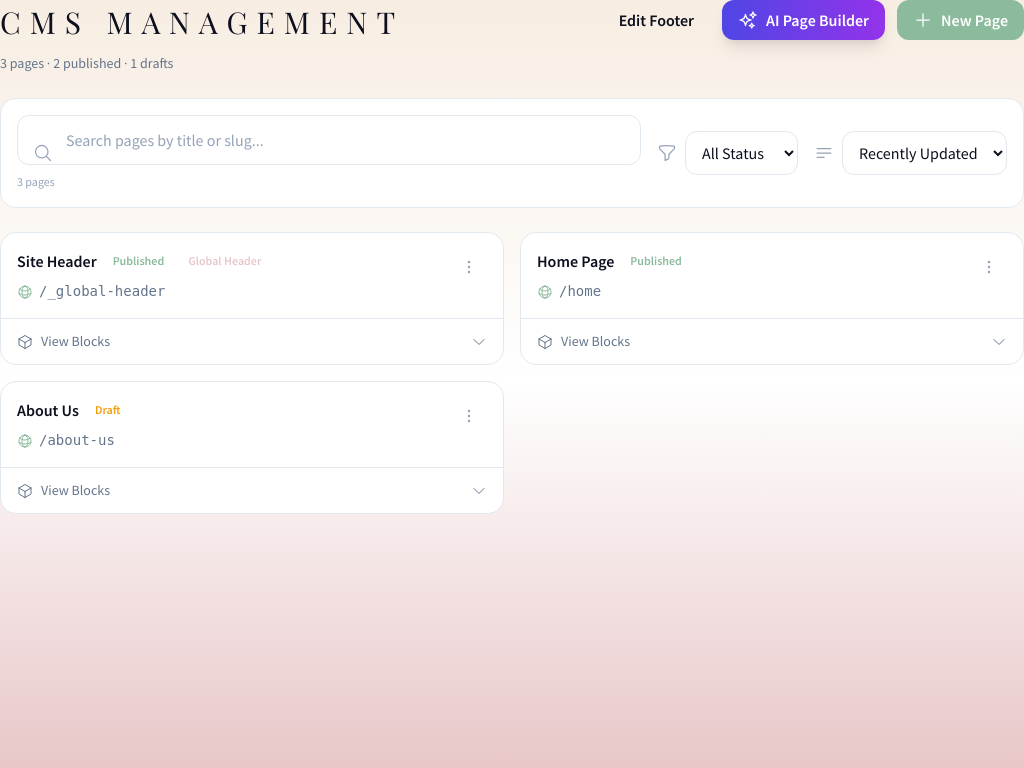
Test: AdminCMS › Modals › opens New Page modal when clicking New Page button
Click the button "New Page" at (961, 20), box [897,0,1023,40]
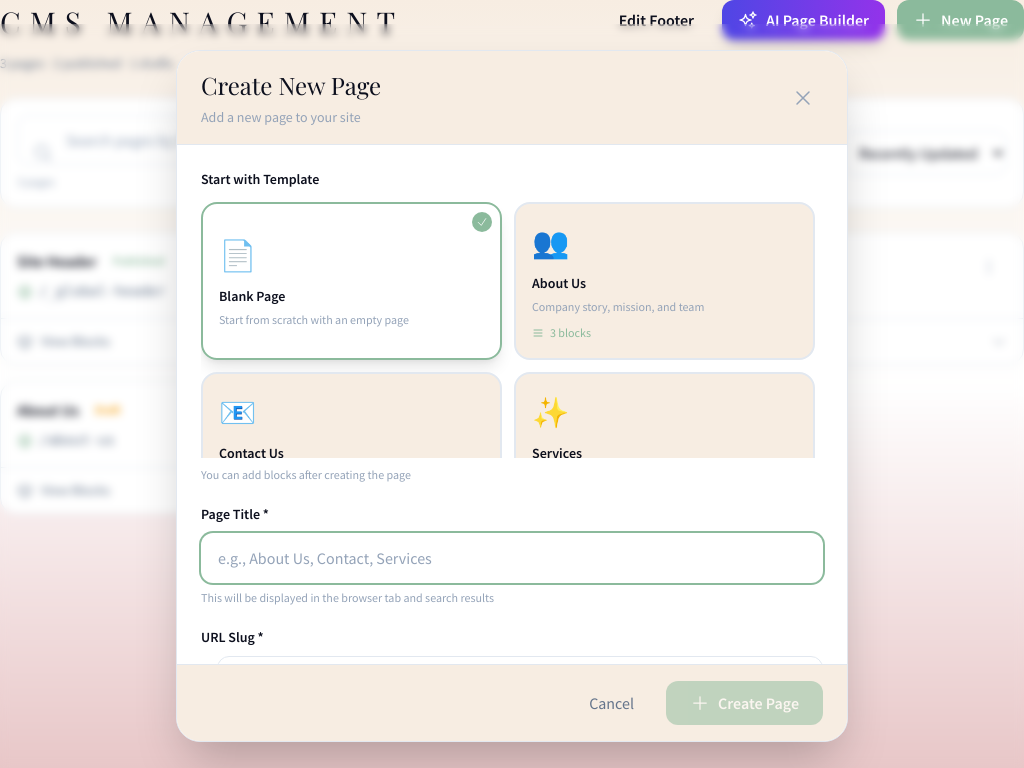
Expected: the heading "Create New Page" is shown, [201,67,381,103]
Expected: the text "Start with Template" is shown, [201,170,319,188]
